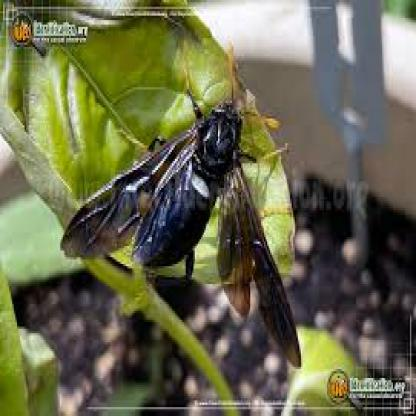sawfly: (61, 39, 307, 368)
